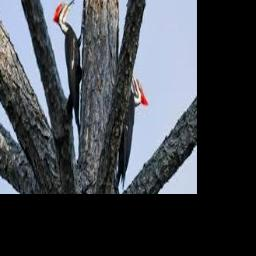Woodpecker: (54, 0, 85, 135), (117, 65, 149, 188)
